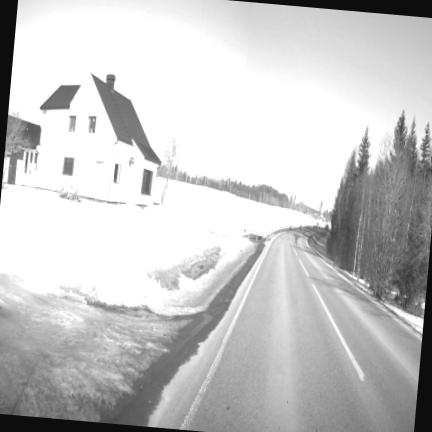Road: (150, 231, 421, 431)
